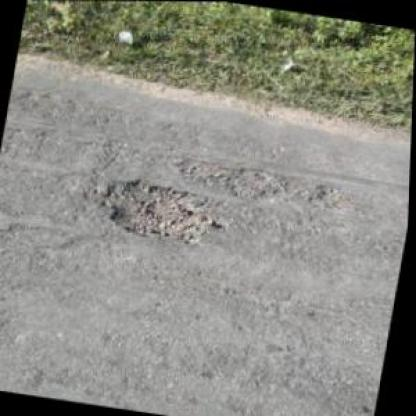pothole: (93, 172, 226, 250), (173, 155, 304, 207), (306, 182, 360, 216)
